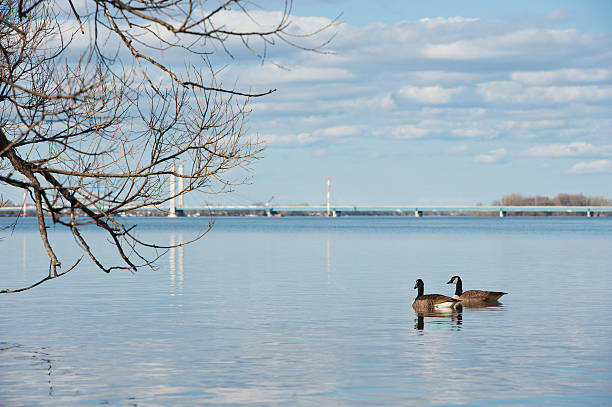goose: (405, 277, 463, 317), (447, 272, 509, 308)
